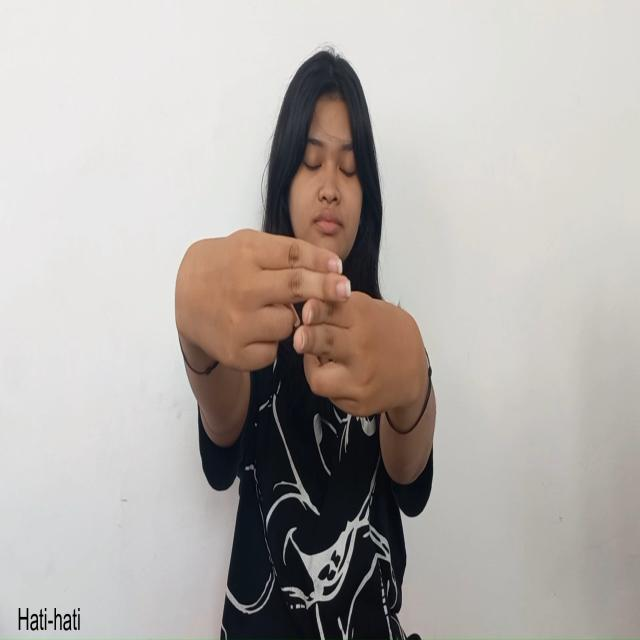Hati-hati -BISINDO-: (174, 227, 428, 420)
